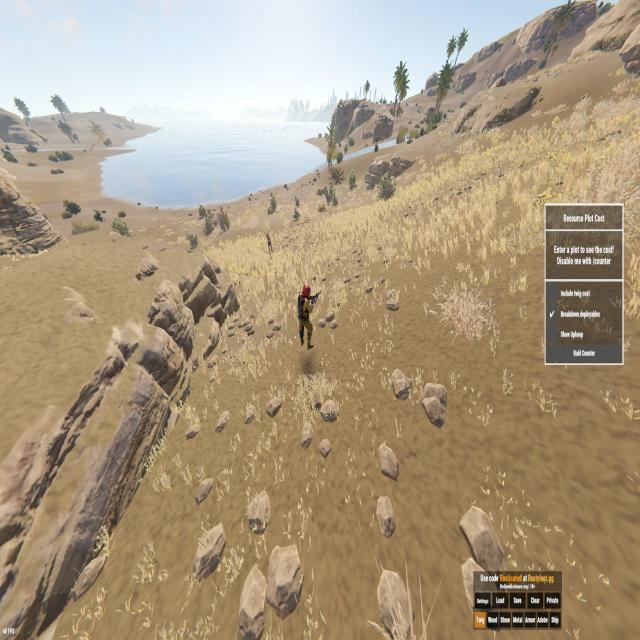Player: (297, 283, 316, 350), (266, 233, 273, 254)
